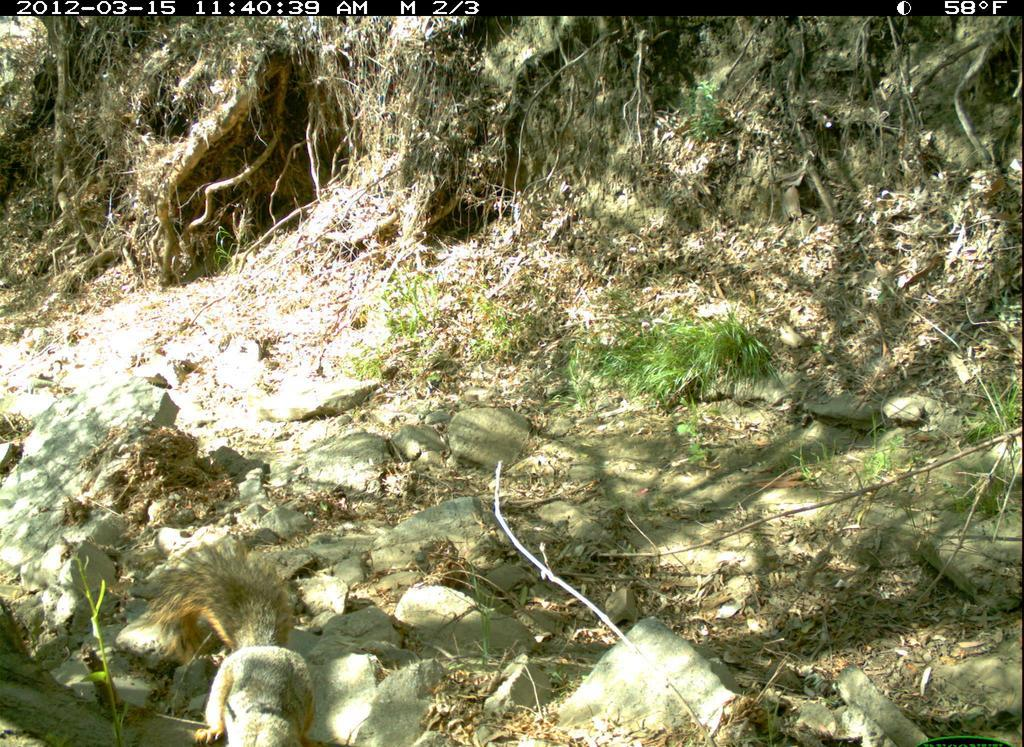squirrel: (153, 537, 326, 747)
